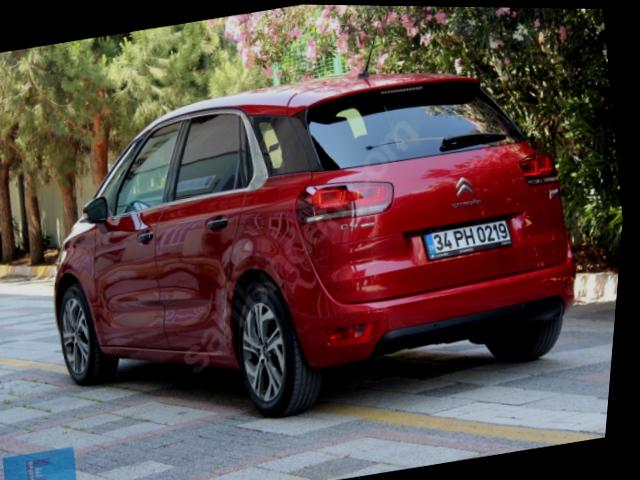plaka: (424, 219, 511, 259)
